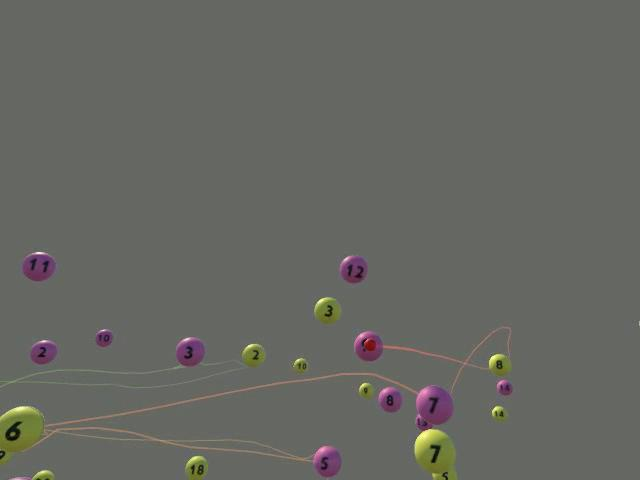ball_02_pink: (29, 339, 57, 364)
ball_02_yellow: (241, 343, 265, 367)
ball_03_pink: (175, 336, 205, 366)
ball_03_yellow: (313, 296, 340, 324)
ball_05_pink: (313, 444, 341, 476)
ball_06_yellow: (0, 405, 44, 452)
ball_07_pink: (415, 385, 453, 424)
ball_07_yellow: (413, 428, 456, 473)
ball_08_pink: (377, 386, 401, 412)
ball_08_yellow: (488, 353, 511, 375)
ball_09_yellow: (358, 382, 373, 398)
ball_10_pink: (95, 328, 113, 346)
ball_10_yellow: (292, 357, 307, 373)
ball_11_pink: (21, 251, 56, 281)
ball_12_pink: (339, 255, 367, 283)
ball_14_pink: (496, 379, 512, 395)
ball_14_yellow: (491, 405, 507, 421)
ball_18_yellow: (185, 455, 208, 479)
ball_unknown: (353, 331, 382, 361), (431, 467, 457, 479), (415, 413, 432, 430), (31, 469, 54, 479), (0, 449, 12, 465), (8, 476, 32, 479)
user_cursor: (362, 338, 376, 351)
